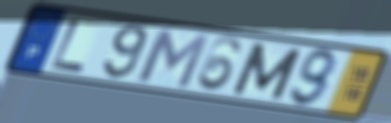6: (194, 35, 245, 95)
9: (288, 47, 342, 109), (100, 24, 149, 80)
L: (47, 16, 89, 74)
M: (135, 26, 213, 91), (228, 40, 305, 102)
